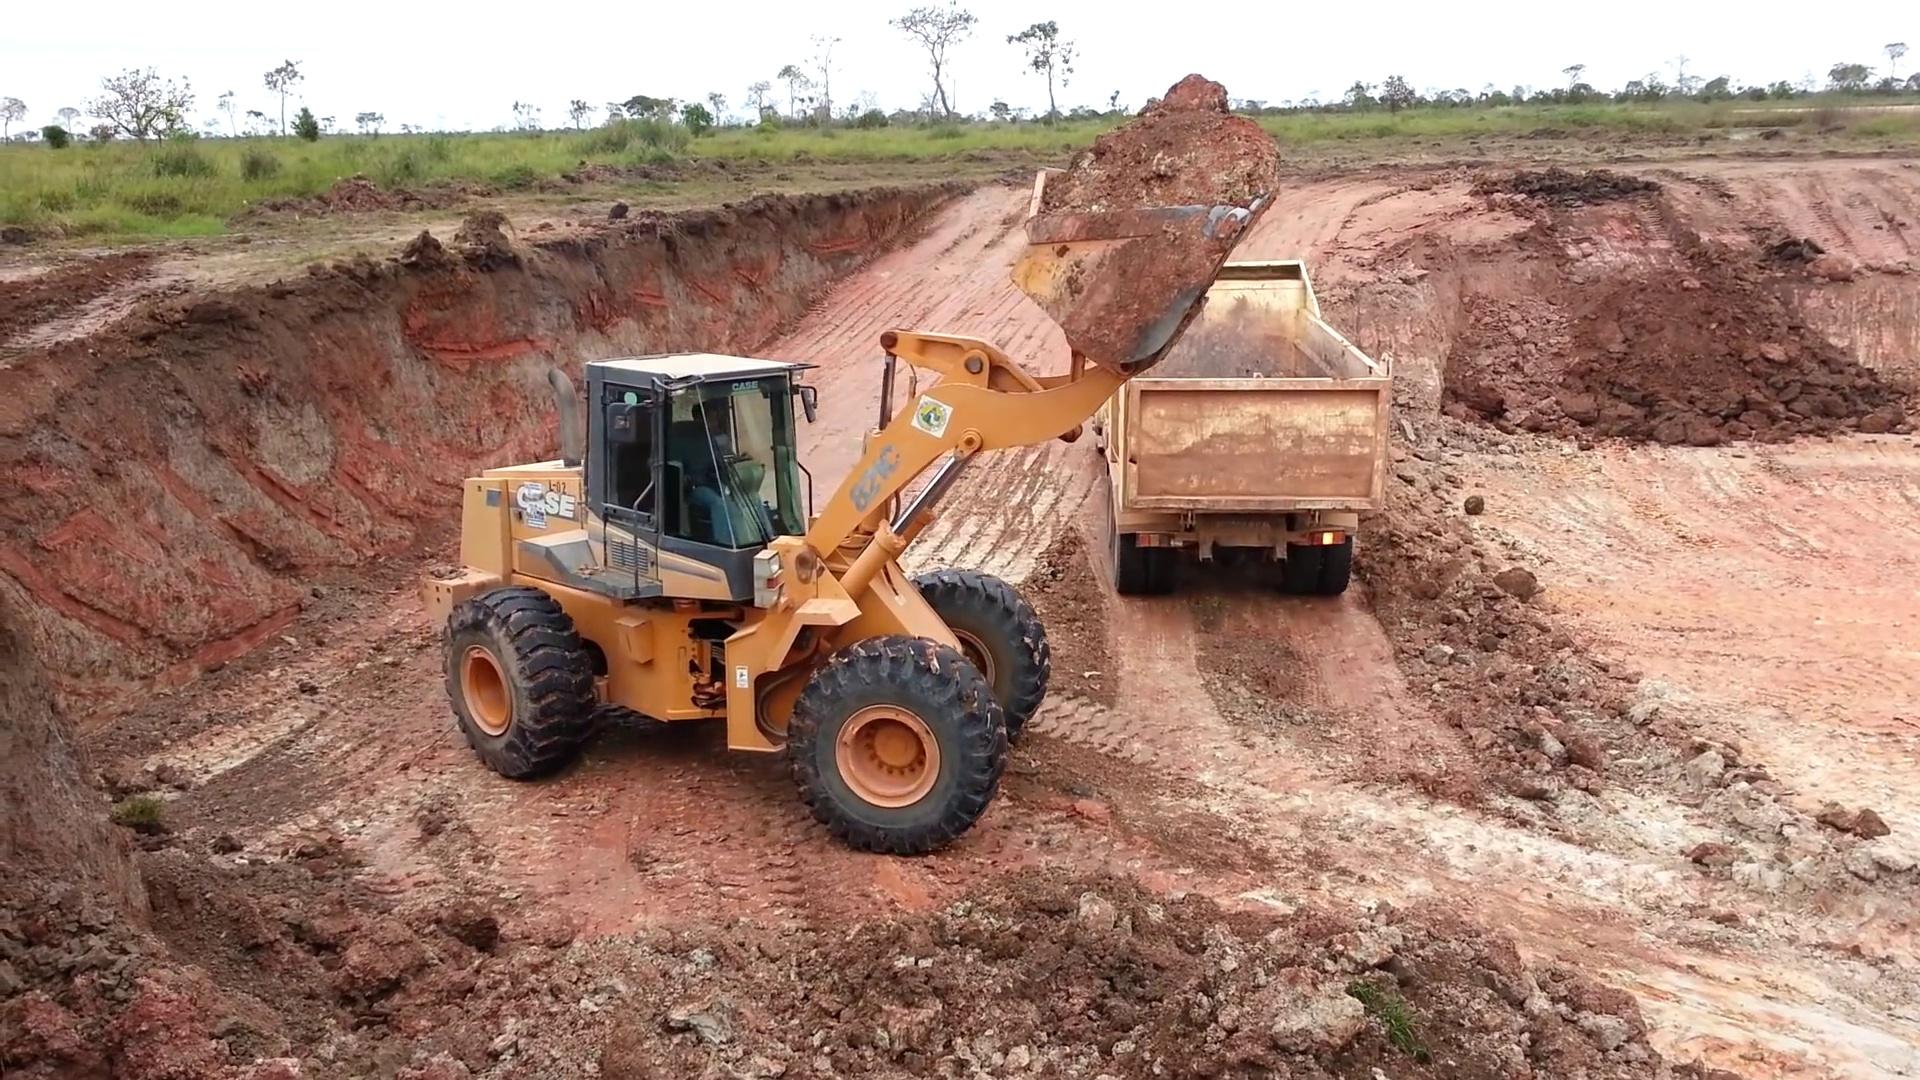dumper: (1112, 256, 1393, 603)
wheel loader: (443, 136, 1280, 855)
